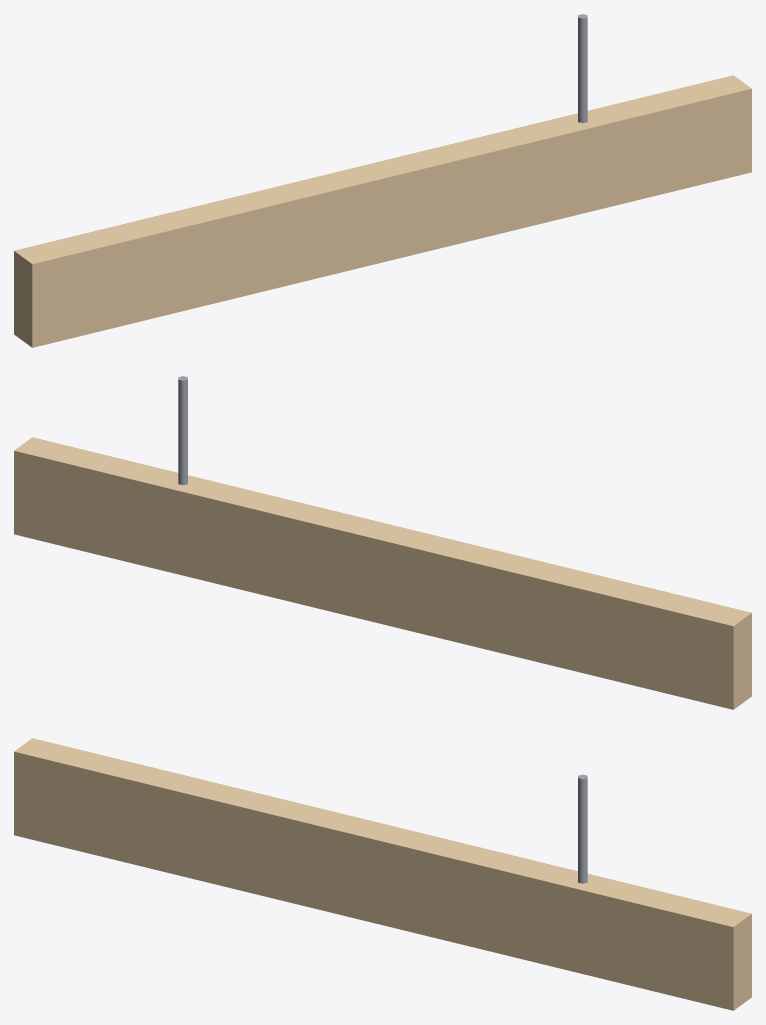
The model's file is weapon_plank.glb.
3 views of the same model, one above another, from view 1: azimuth 30°, elevation 25°; view 2: azimuth 150°, elevation 25°; view 3: azimuth 330°, elevation 25° (orthographic).
Parts seen in each view (by area): view 1: weapon_plank; view 2: weapon_plank; view 3: weapon_plank.
Part boxes in pixels (x1,y1,x2,y2): weapon_plank: [14, 14, 751, 347]; weapon_plank: [14, 376, 751, 709]; weapon_plank: [14, 738, 751, 1010].
Bounding box in the file's own units: 0.9 × 0.225 × 0.04.
